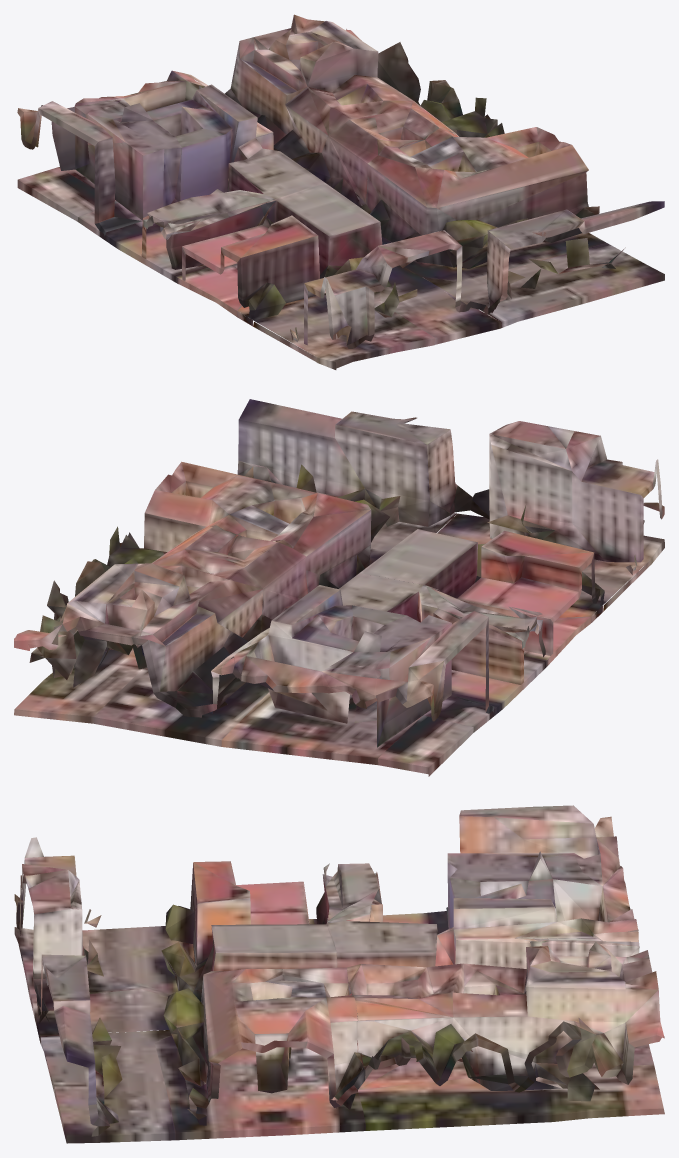
3 renders of one model, top to bottom at view 1: azimuth 30°, elevation 25°; view 2: azimuth 150°, elevation 25°; view 3: azimuth 270°, elevation 25°, orthographic. The views are drawn at different scales.
Parts seen in each view (by area): view 1: Mesh_0; view 2: Mesh_0; view 3: Mesh_0.
Part boxes in pixels (left/top/right/bottom): Mesh_0: left=17, top=14, right=664, bottom=369; Mesh_0: left=14, top=399, right=664, bottom=776; Mesh_0: left=14, top=805, right=664, bottom=1143.
Bounding box in the file's own units: 134 × 36.53 × 165.
Materials: 1 (1 with a texture image).
